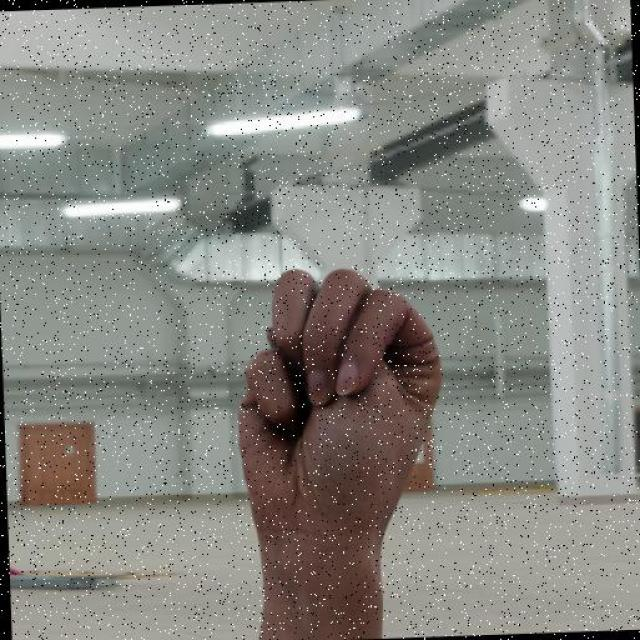M: (227, 259, 452, 553)
